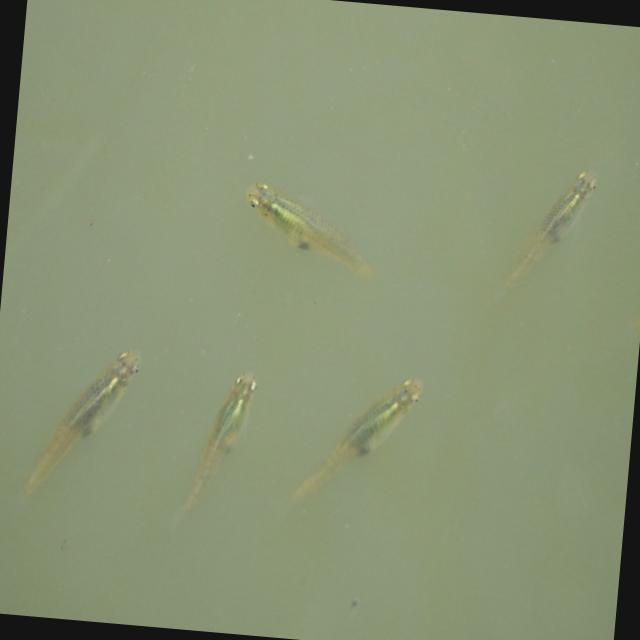Sivrisinek Baligi: (12, 342, 140, 515), (284, 367, 424, 523), (495, 158, 601, 304), (172, 367, 258, 532), (242, 177, 383, 277)
